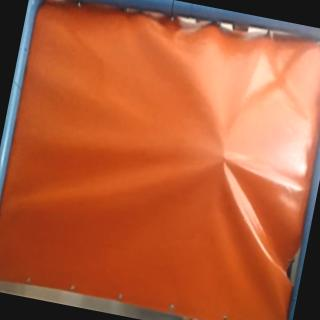Hit-hRxx: (212, 150, 232, 168)
